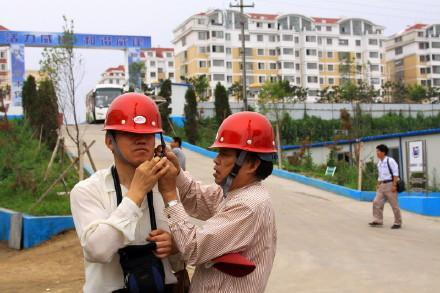helmet: (205, 113, 282, 165), (97, 95, 168, 142)
no-vest: (67, 168, 176, 289), (200, 182, 278, 293)
person: (69, 90, 175, 293), (186, 109, 279, 293)
